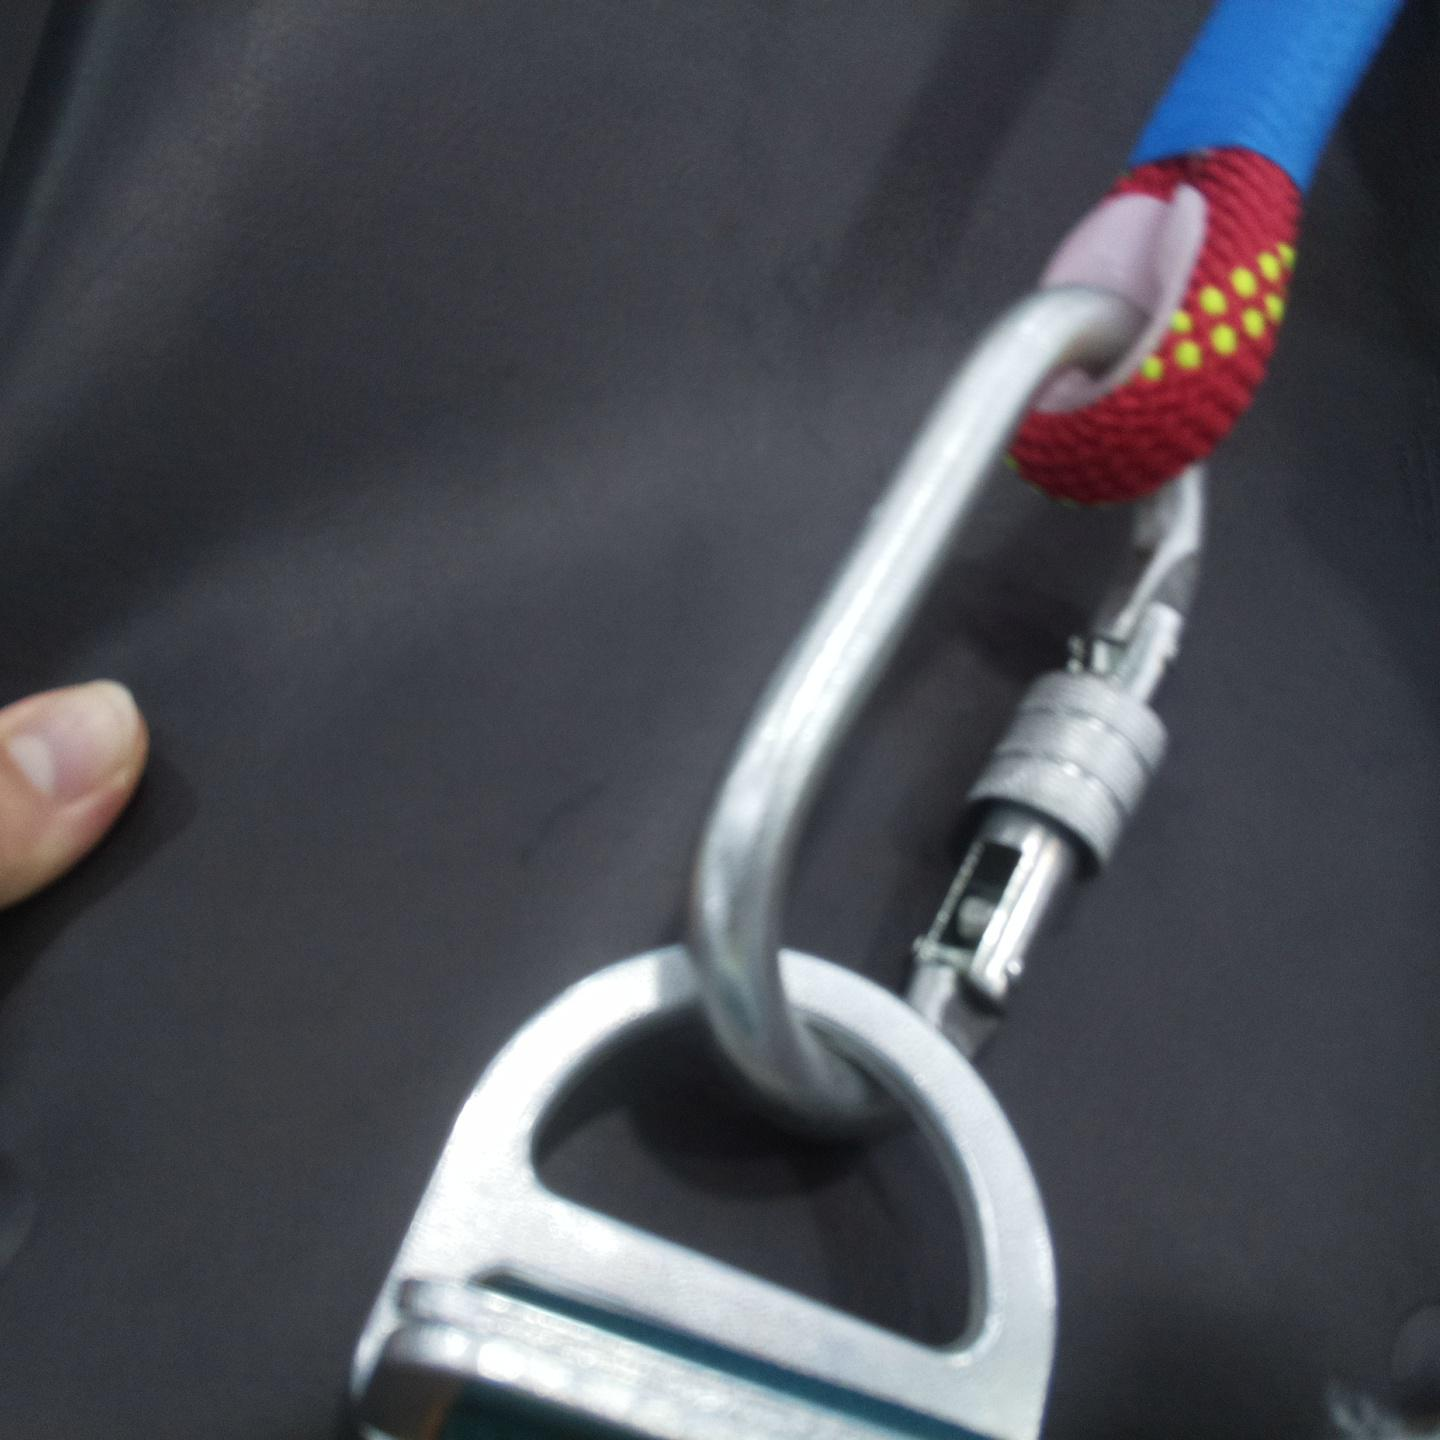SUCCESS: (381, 636, 1146, 1396)
